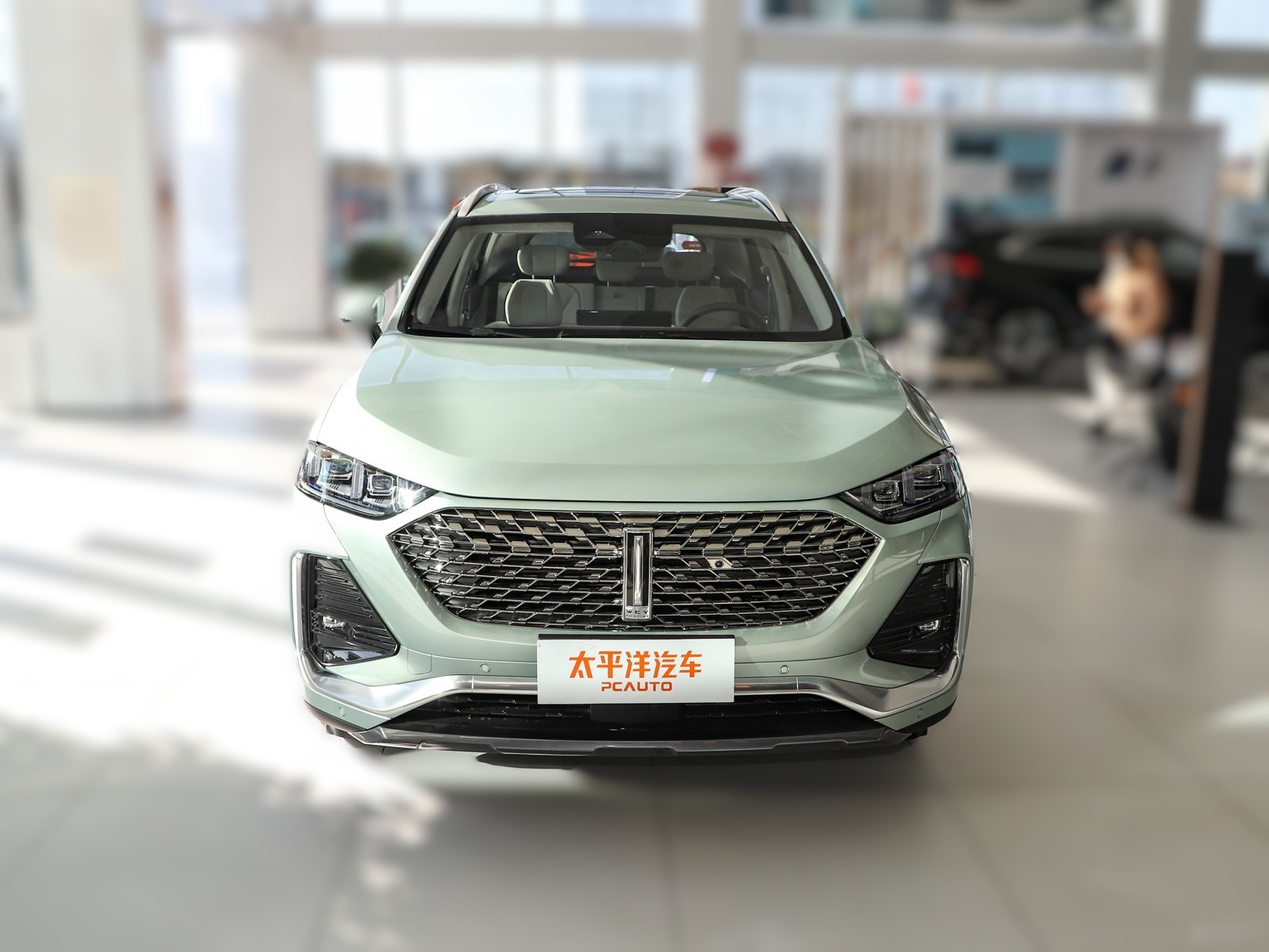WEY: (626, 532, 650, 619)
